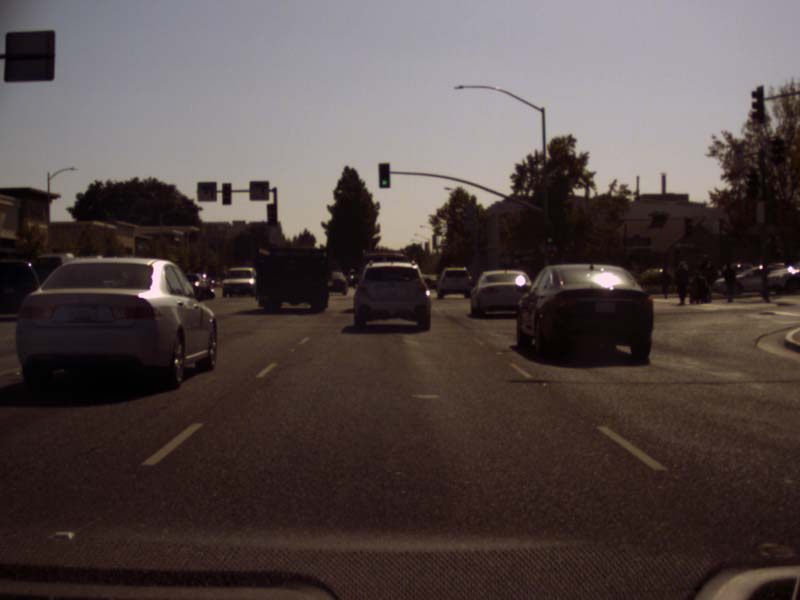Green: (379, 163, 390, 187), (546, 227, 554, 244)
